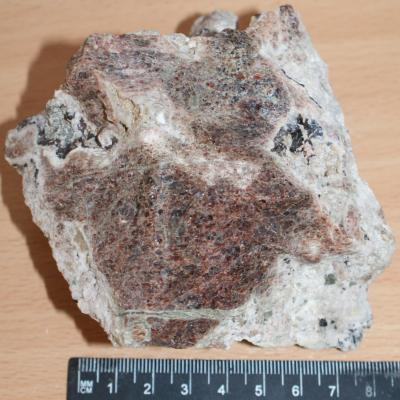mineralogy: (5, 5, 396, 353)
